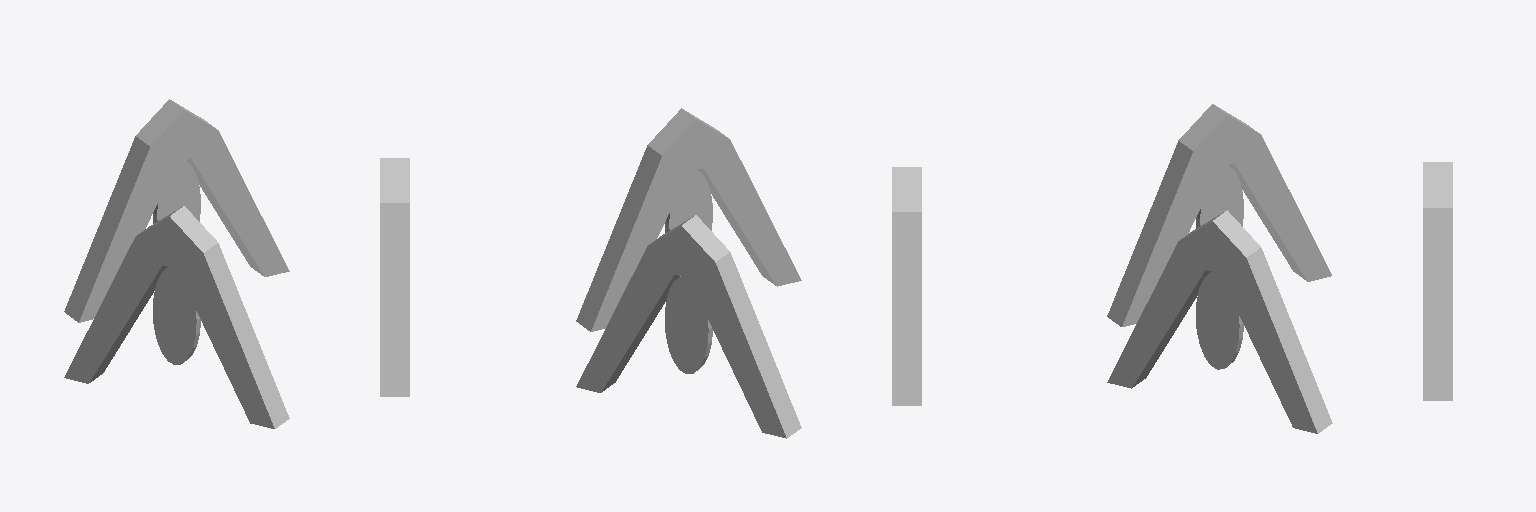
File: Mirroirs.obj
3 views of the same model, side by side, from view 1: azimuth 30°, elevation 25°; view 2: azimuth 150°, elevation 25°; view 3: azimuth 270°, elevation 25° (orthographic).
Visible parts, largest first — view 1: Mirroir_1 Mirroirs_S, Mirroirs_S Mirroir_3, Mirroirs_S Mirroir_2; view 2: Mirroirs_S Mirroir_3, Mirroirs_S Mirroir_2, Mirroir_1 Mirroirs_S; view 3: Mirroirs_S Mirroir_2, Mirroir_1 Mirroirs_S, Mirroirs_S Mirroir_3.
Boxes of the visible parts, box(x1,y1,x2,y2) form: Mirroir_1 Mirroirs_S: box(64, 206, 289, 428); Mirroirs_S Mirroir_3: box(64, 99, 289, 322); Mirroirs_S Mirroir_2: box(380, 158, 409, 396); Mirroirs_S Mirroir_3: box(576, 215, 801, 438); Mirroirs_S Mirroir_2: box(576, 108, 801, 331); Mirroir_1 Mirroirs_S: box(892, 167, 921, 405); Mirroirs_S Mirroir_2: box(1107, 210, 1332, 433); Mirroir_1 Mirroirs_S: box(1107, 104, 1331, 326); Mirroirs_S Mirroir_3: box(1423, 162, 1452, 400).
Size of the model in its own units: 187 by 96.88 by 162.